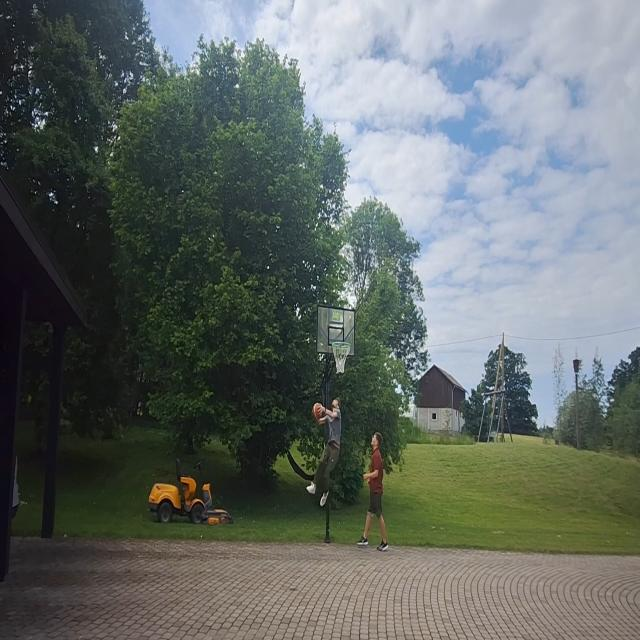ball: (311, 398, 325, 421)
basket: (332, 338, 351, 378)
player: (307, 393, 342, 511), (360, 430, 390, 552)
